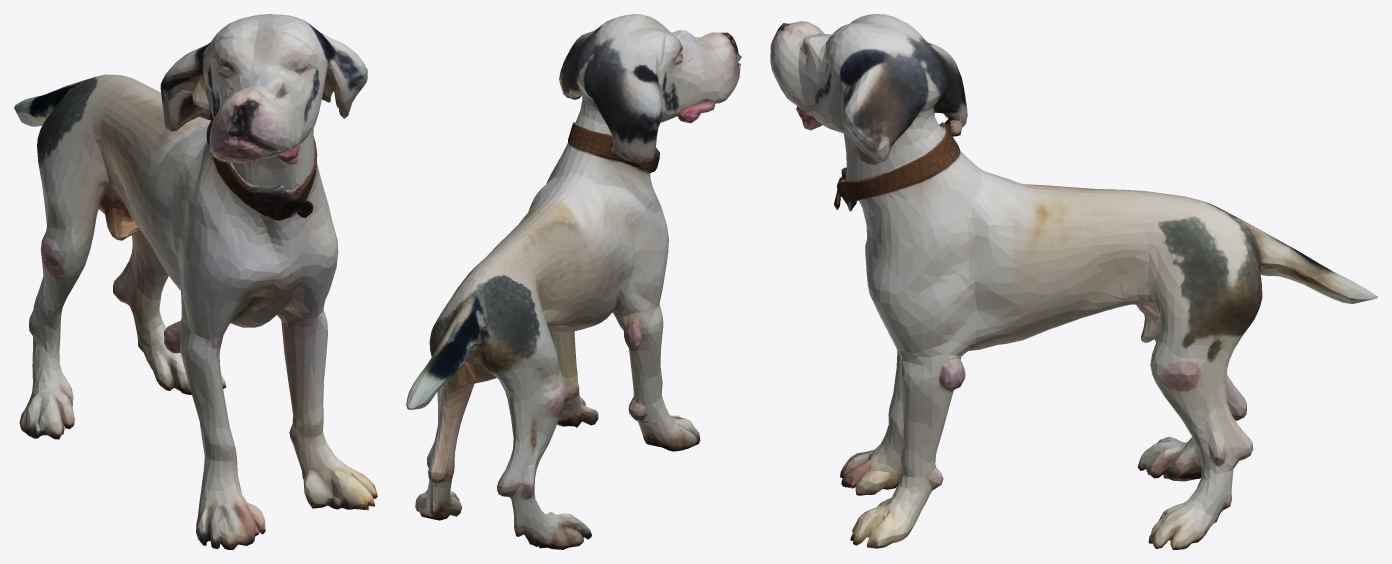
3 views of the same model, side by side, from view 1: azimuth 30°, elevation 25°; view 2: azimuth 150°, elevation 25°; view 3: azimuth 270°, elevation 25° (orthographic). The views are drawn at different scales.
Visible parts, largest first — view 1: world; view 2: world; view 3: world.
Boxes of the visible parts, <box> form: world: <box>14,14,377,549</box>; world: <box>406,14,741,549</box>; world: <box>770,14,1377,549</box>.
Bounding box in the file's own units: 0.367 × 0.8723 × 0.9999.
1 material, 1 textured.
